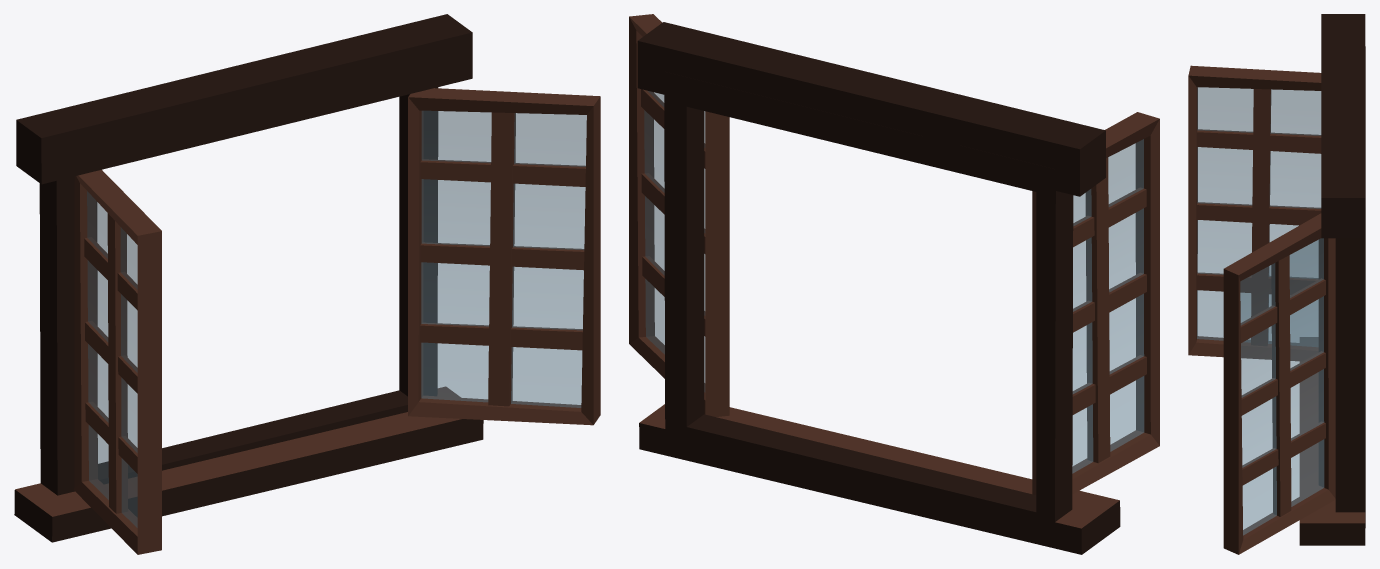
The model's file is Window 4x4 V2 Open.glb.
The picture shows the model from 3 angles, left to right: view 1: azimuth 30°, elevation 25°; view 2: azimuth 150°, elevation 25°; view 3: azimuth 270°, elevation 25°; orthographic projection. The views are drawn at different scales.
Visible parts, largest first — view 1: Window 4x4 V2 Open; view 2: Window 4x4 V2 Open; view 3: Window 4x4 V2 Open.
Part boxes in pixels (x1,y1,x2,y2): Window 4x4 V2 Open: [14, 14, 600, 554]; Window 4x4 V2 Open: [629, 14, 1159, 554]; Window 4x4 V2 Open: [1188, 14, 1365, 554].
Size of the model in its own units: 2.79 by 2.06 by 0.9506.
Materials: 2 (2 with a texture image).
